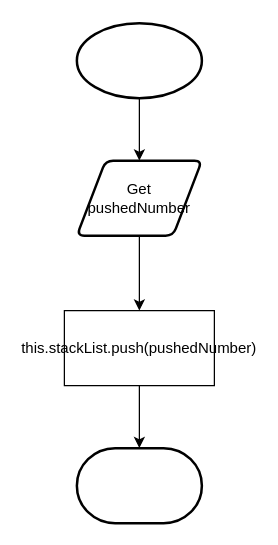
Image size: 278x545. Some labels were removed from this diagram. The shapes that lost their labels are listed below. From the top down, each one's centre as x and y in pixels, then its label:
At (x=138, y=60): "Start".
At (x=138, y=485): "Stop".
